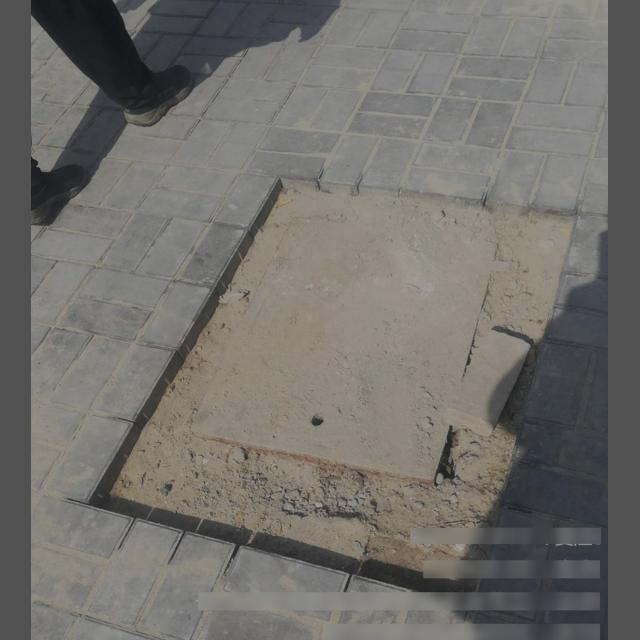circle: (96, 194, 576, 545)
